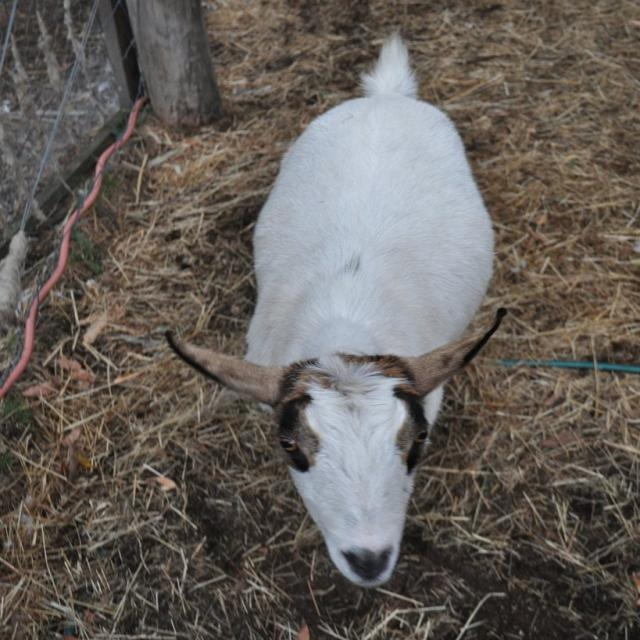Goat: (166, 29, 508, 590)
